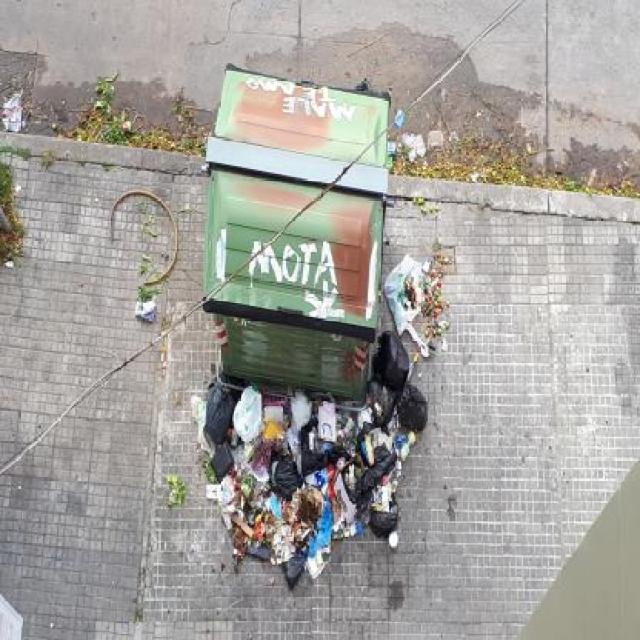garbage: (191, 388, 405, 574), (388, 256, 455, 352), (389, 100, 453, 171), (6, 83, 29, 138), (133, 285, 156, 330)
